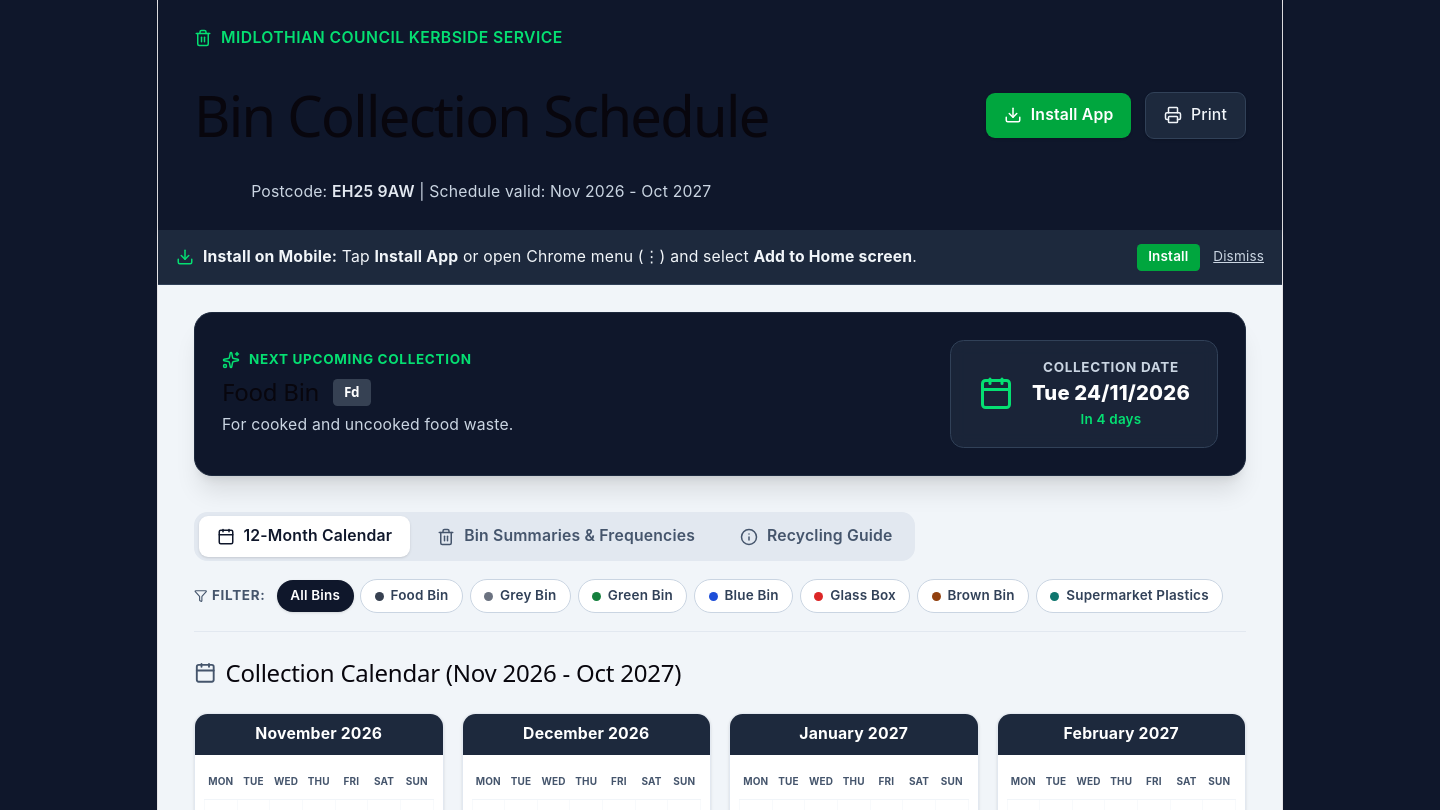
it: App interactions › switches to the recycling guide tab
Click the tab "Recycling Guide" at (816, 537), box [722,516,910,557]
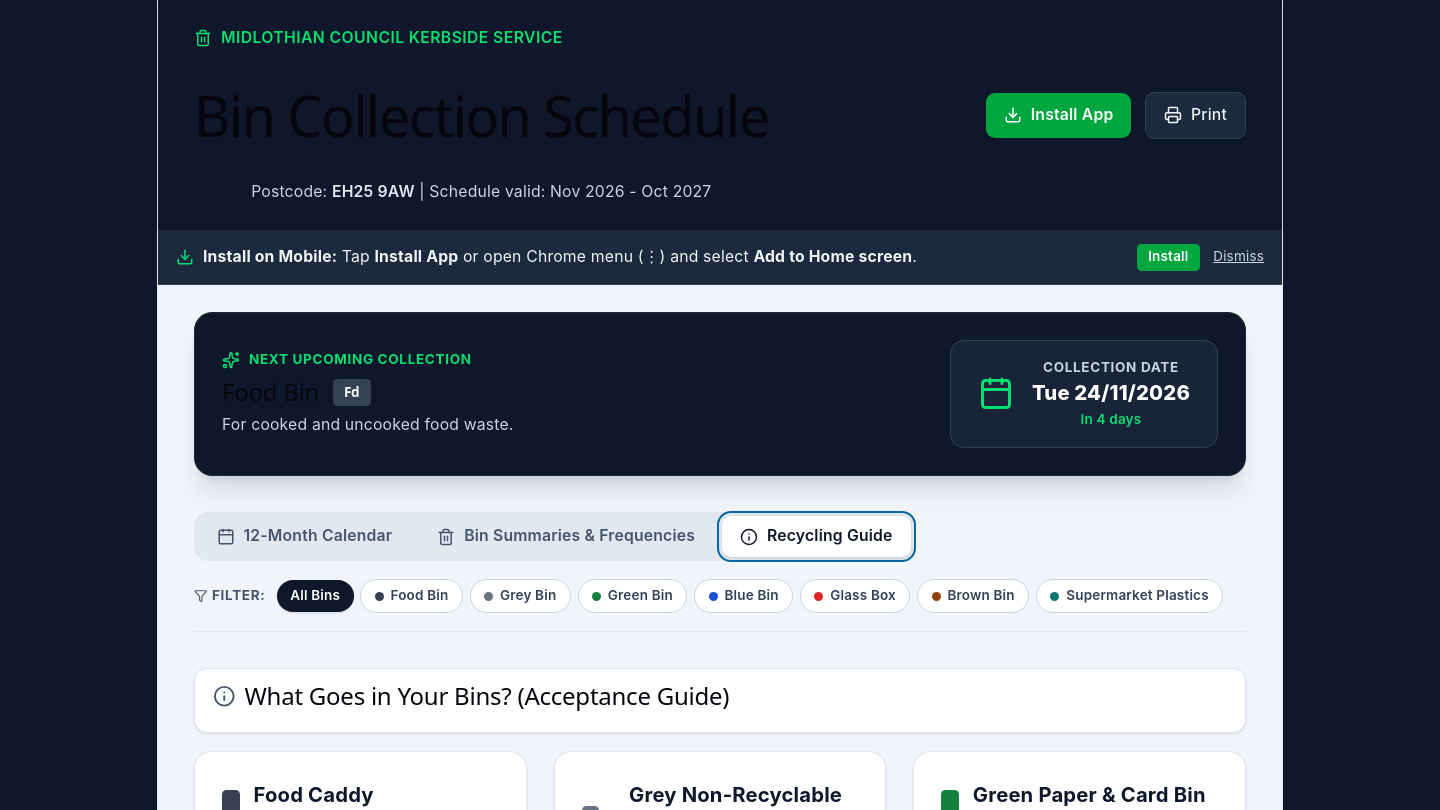
Result: the text "What Goes in Your Bins? (Acceptance Guide)" is shown at [244,682,729,711]
